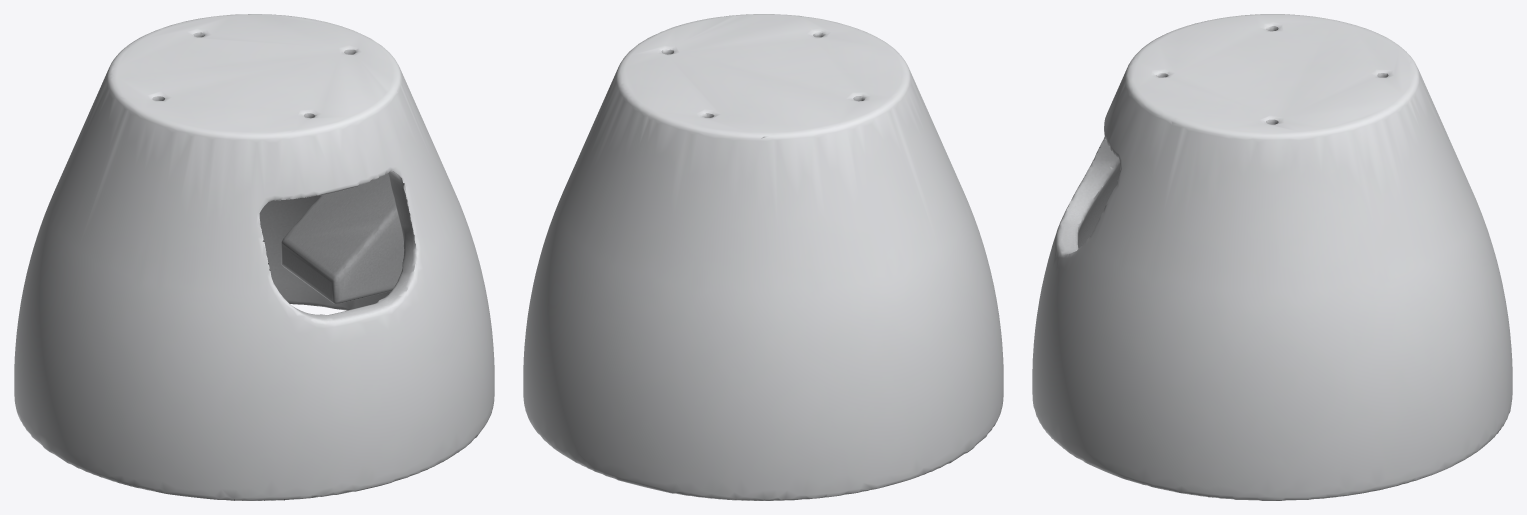
File: right_elbow_to_forarm_upper.glb
3 views of the same model, side by side, from view 1: azimuth 30°, elevation 25°; view 2: azimuth 150°, elevation 25°; view 3: azimuth 270°, elevation 25° (orthographic).
Parts seen in each view (by area): view 1: right_elbow_to_forarm_upper; view 2: right_elbow_to_forarm_upper; view 3: right_elbow_to_forarm_upper.
Boxes of the visible parts, box(x1,y1,x2,y2) form: right_elbow_to_forarm_upper: box(14, 14, 494, 500); right_elbow_to_forarm_upper: box(523, 14, 1003, 500); right_elbow_to_forarm_upper: box(1032, 14, 1512, 500).
Bounding box in the file's own units: 0.073 × 0.0548 × 0.073.
Materials: 1 (1 with a texture image).
